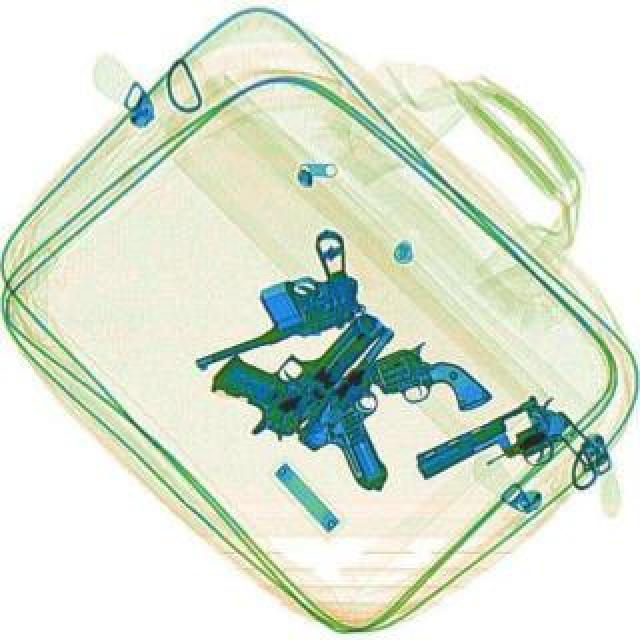gun: (262, 324, 498, 484), (202, 266, 390, 454), (166, 222, 378, 374), (294, 322, 470, 494), (414, 382, 608, 536)
